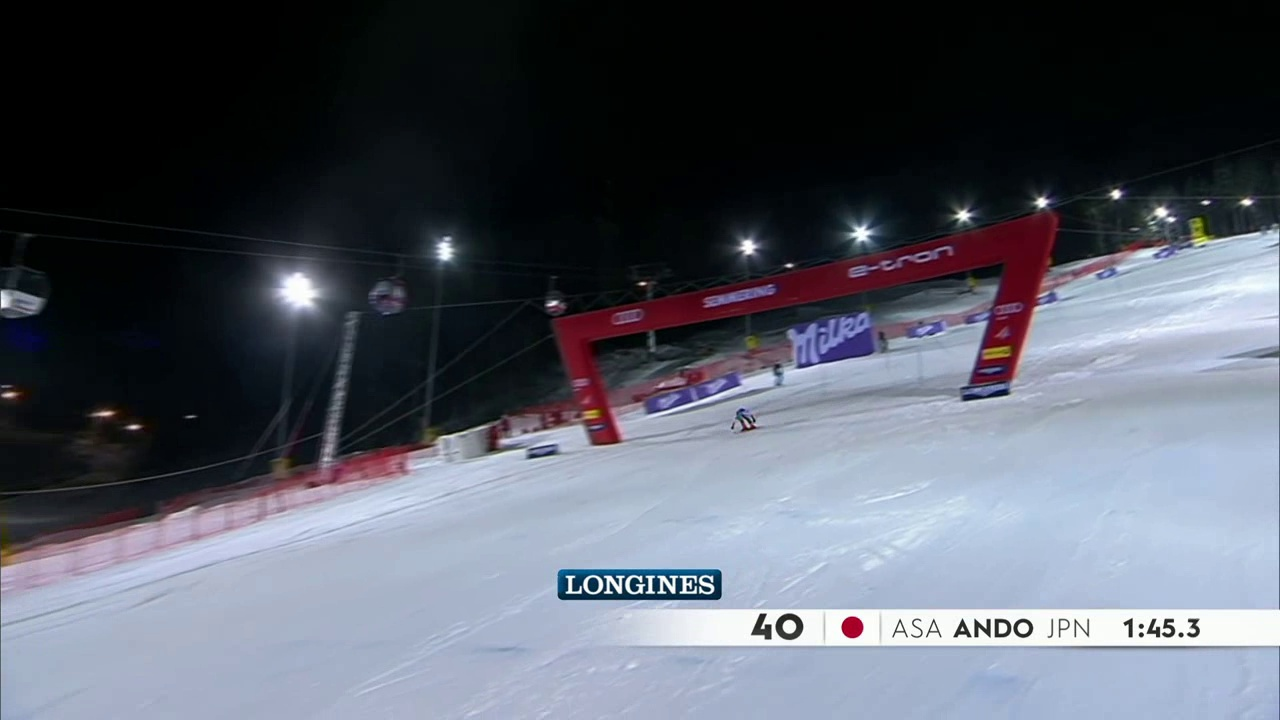longines: (556, 566, 730, 606)
milka: (785, 313, 876, 368)
